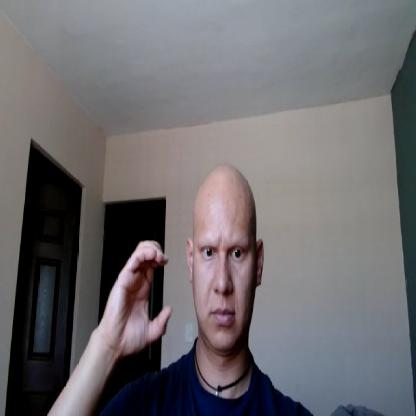C: (107, 238, 172, 356)
